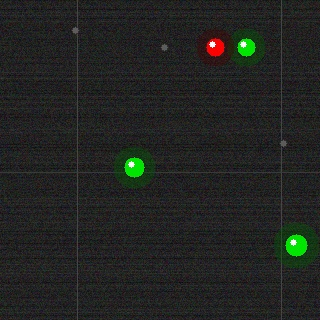green_normal: (283, 232, 309, 258), (122, 155, 146, 179), (235, 36, 257, 58)
red_fault: (204, 36, 226, 58)
